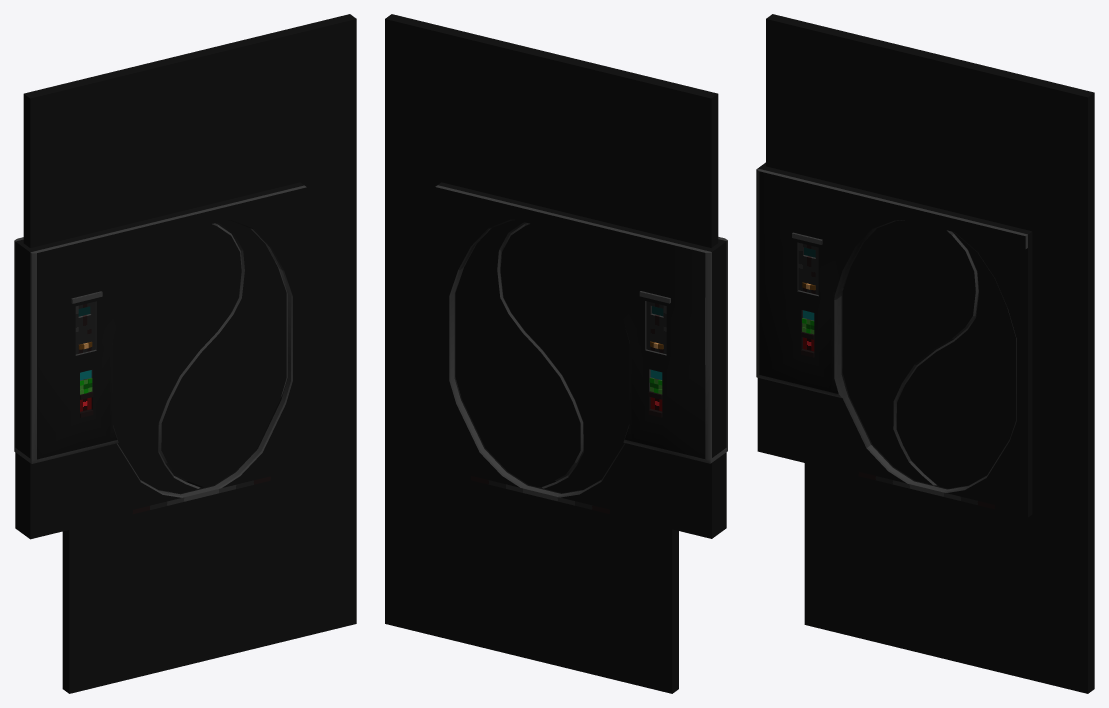
Rendered from door8.fbx.
3 renders of one model, left to right at view 1: azimuth 30°, elevation 25°; view 2: azimuth 150°, elevation 25°; view 3: azimuth 330°, elevation 25°, orthographic.
Parts seen in each view (by area): view 1: door1_5.frame1, door1_5.002, door1_5.001; view 2: door1_5.frame1, door1_5.002, door1_5.001; view 3: door1_5.frame1, door1_5.002, door1_5.001.
Boxes of the visible parts, x1,y1,x2,y2 form: door1_5.frame1: (14, 14, 356, 693); door1_5.002: (113, 223, 242, 493); door1_5.001: (159, 220, 286, 487); door1_5.frame1: (385, 14, 727, 693); door1_5.002: (500, 223, 629, 493); door1_5.001: (455, 220, 583, 487); door1_5.frame1: (756, 14, 1094, 693); door1_5.002: (842, 220, 978, 485); door1_5.001: (896, 231, 1015, 488).
Bounding box in the file's own units: 309 × 540 × 36.
